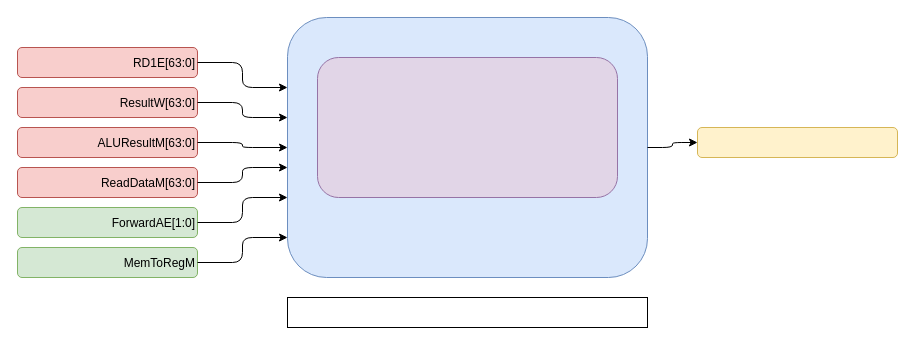
Some shapes in this 915 by 345 pixel diagram are drawn without their labels. Each missing label, with the centre of its shape:
"Forwarding MUX – SrcAE" goes at point 467,312.
"SrcAE Selection Logic 00: RD1E 01: ResultW 10: MEM (Load/ALU)" goes at point 467,127.
"SrcAE[63:0]" goes at point 797,142.
